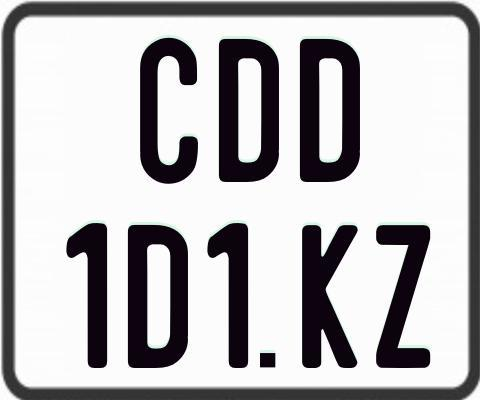1: (207, 222, 251, 372), (66, 220, 107, 370)
C: (137, 37, 200, 188)
D: (216, 38, 282, 187), (128, 223, 189, 368), (299, 36, 360, 180)
K: (300, 223, 359, 370)
Z: (376, 224, 432, 369)
